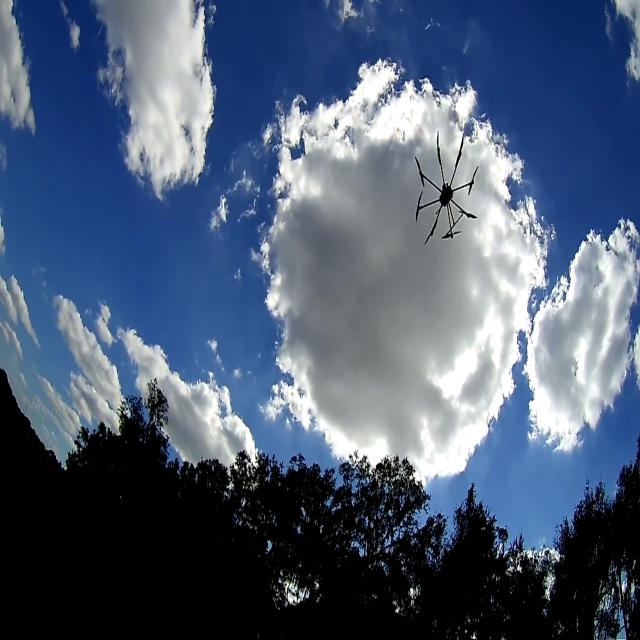drone: (411, 118, 482, 249)
